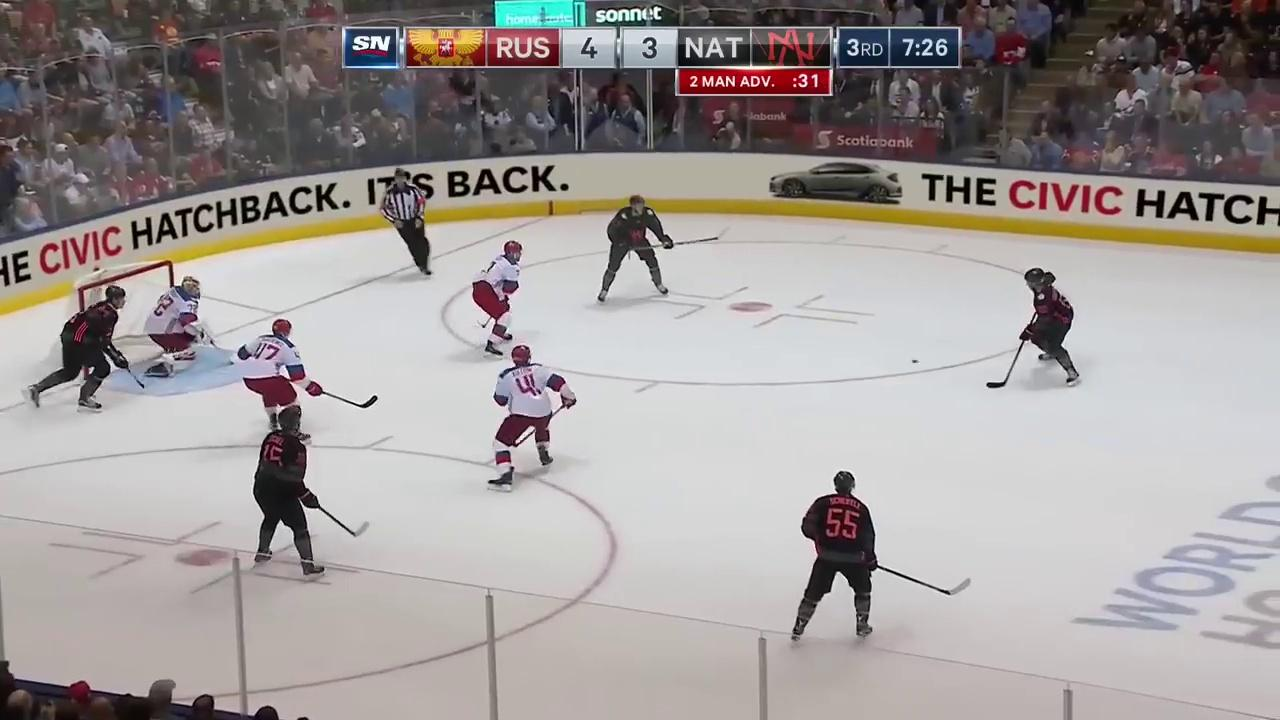ball: (912, 360, 920, 364)
